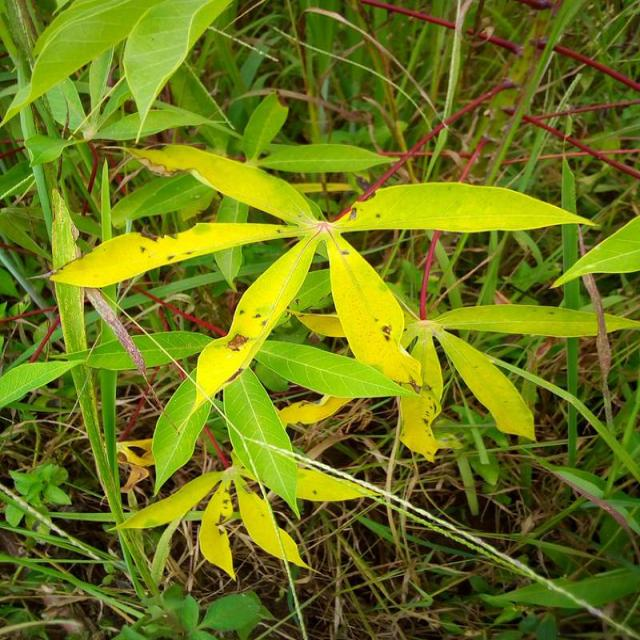cassava leaf: (48, 136, 630, 575)
